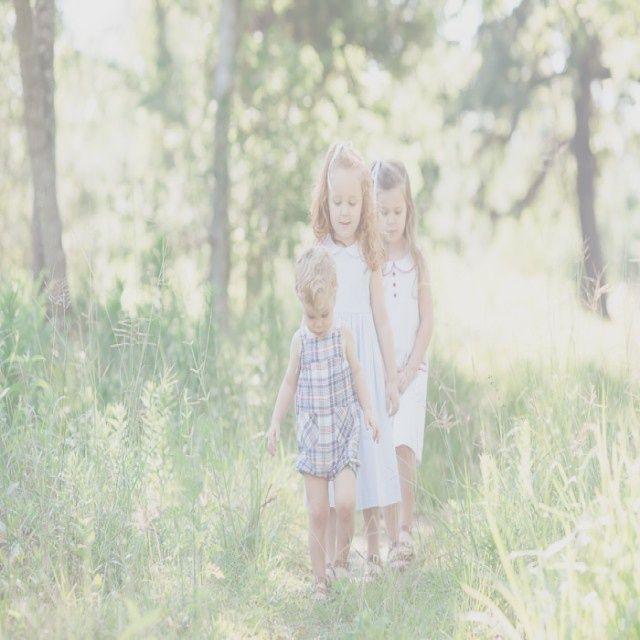pessoa: (298, 136, 402, 594), (262, 236, 382, 610), (368, 155, 438, 574)
